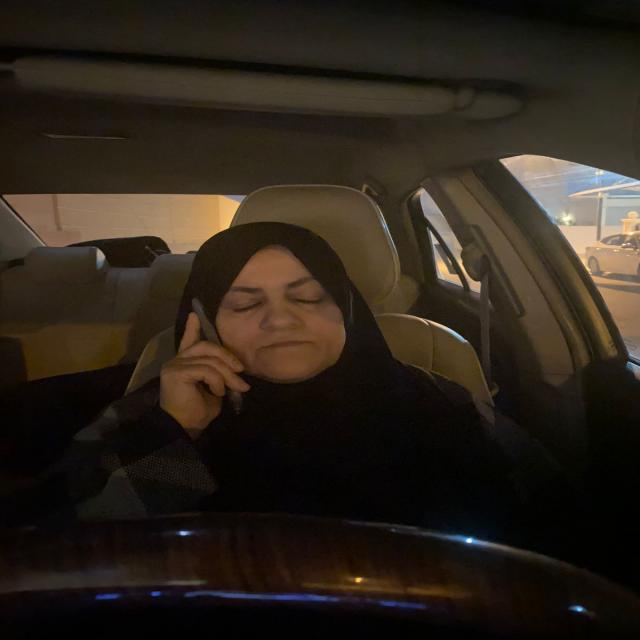drowsy: (214, 220, 370, 390)
mobile: (194, 291, 240, 424)
